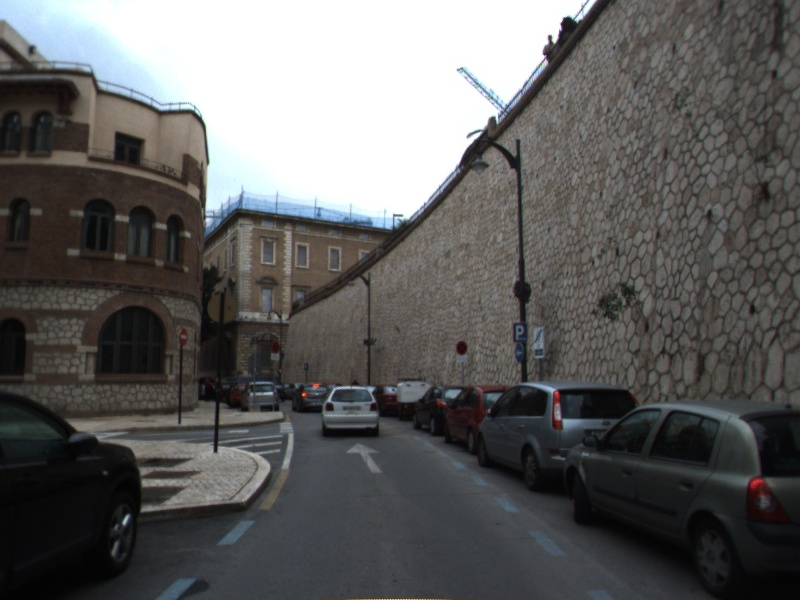STRAIGHT: (345, 441, 384, 475)
